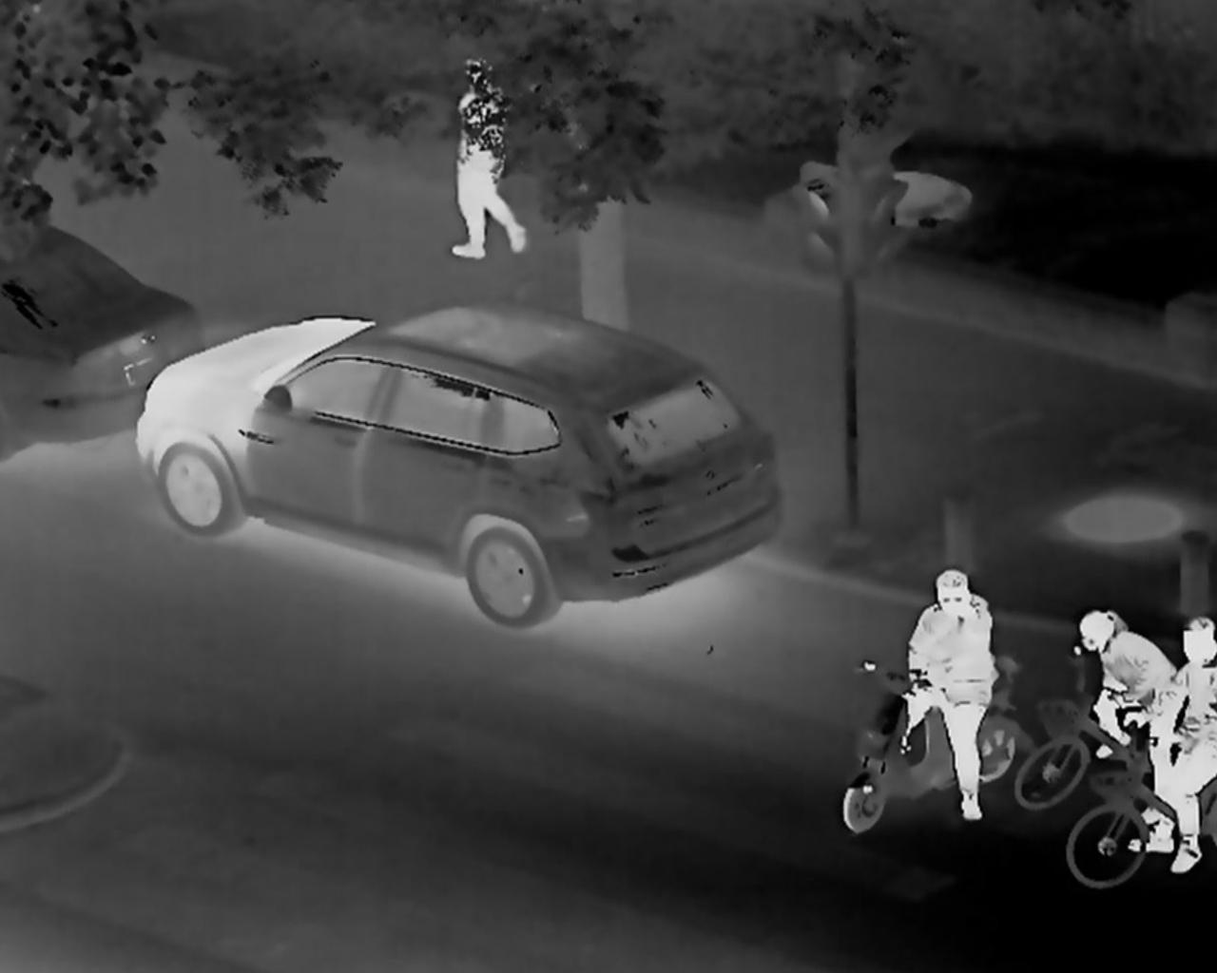person: (895, 550, 1000, 825), (1105, 616, 1217, 869), (1064, 607, 1177, 821), (444, 53, 531, 263)
